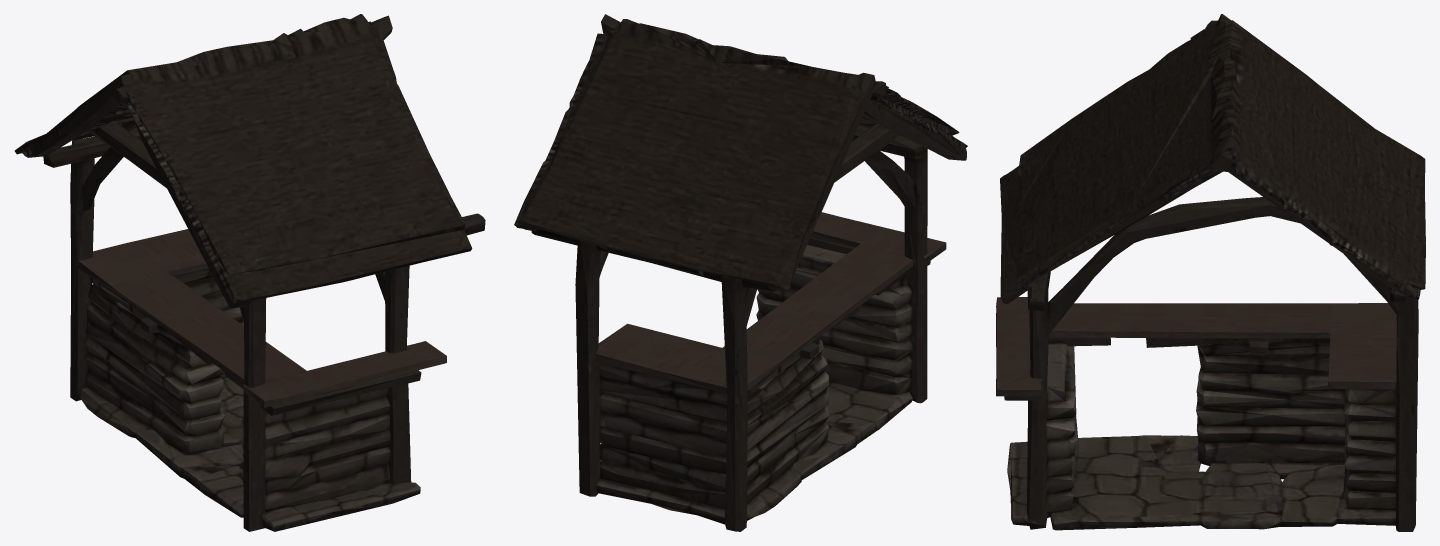
The model's file is war_stall_01.glb.
3 views of the same model, side by side, from view 1: azimuth 30°, elevation 25°; view 2: azimuth 150°, elevation 25°; view 3: azimuth 270°, elevation 25° (orthographic). The views are drawn at different scales.
Visible parts, largest first — view 1: geometry_0; view 2: geometry_0; view 3: geometry_0.
Part boxes in pixels (x1,y1,x2,y2): geometry_0: (14,14,485,531); geometry_0: (514,14,967,531); geometry_0: (996,14,1425,531).
Bounding box in the file's own units: 0.7441 × 0.9983 × 0.9323.
1 material, 1 textured.
